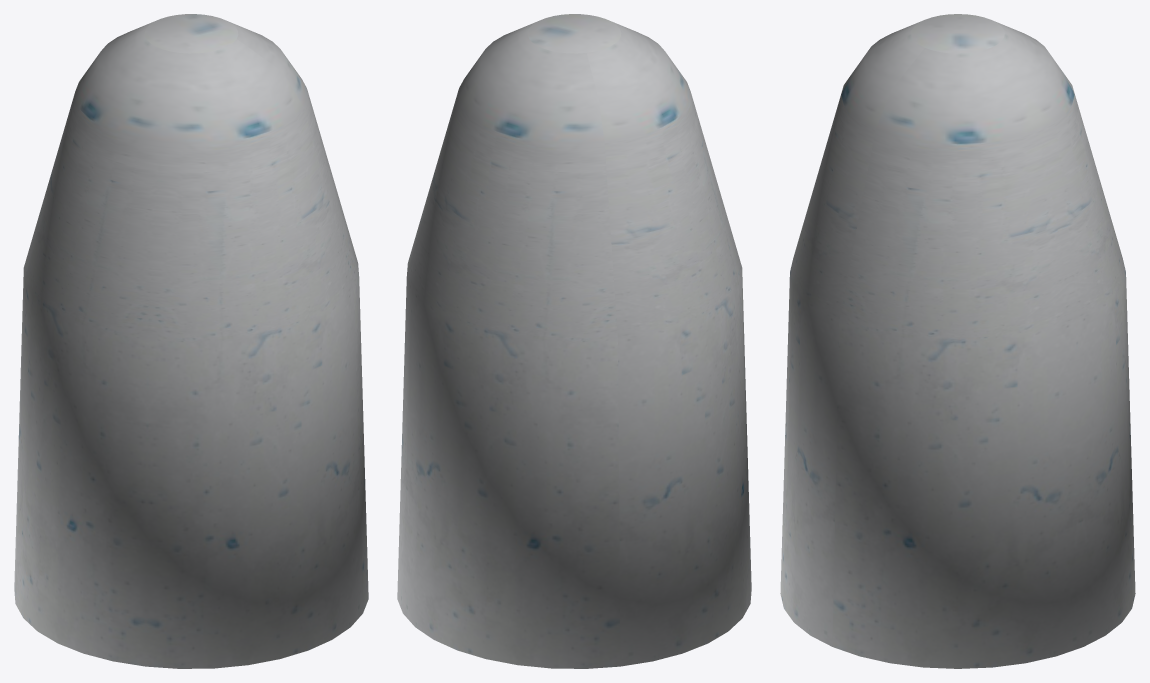
Rendered from RoundBullet.gltf.
3 renders of one model, left to right at view 1: azimuth 30°, elevation 25°; view 2: azimuth 150°, elevation 25°; view 3: azimuth 270°, elevation 25°, orthographic.
Parts seen in each view (by area): view 1: Cylinder.006; view 2: Cylinder.006; view 3: Cylinder.006.
Part boxes in pixels (box(x1,y1,x2,y2)): Cylinder.006: box(14, 14, 368, 668); Cylinder.006: box(397, 14, 751, 668); Cylinder.006: box(780, 14, 1135, 668).
Bounding box in the file's own units: 0.3557 × 0.6192 × 0.3557.
Materials: 1 (1 with a texture image).
